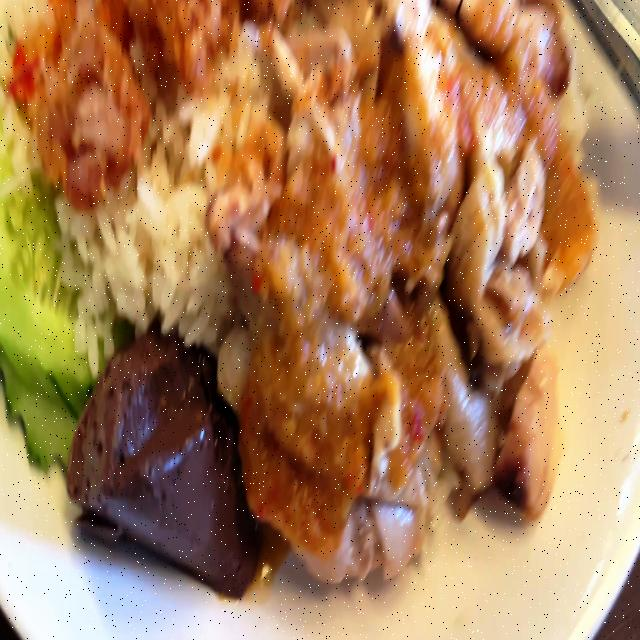boiled_chicken: (257, 1, 556, 531)
boiled_chicken_blood_jelly: (65, 326, 257, 595)
chicken_rice: (0, 0, 592, 591)
cucumber: (0, 84, 120, 449)
fried_chicken: (8, 0, 255, 176)
